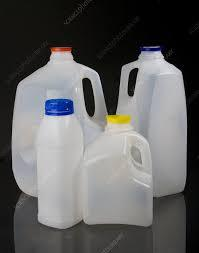HDPE: (11, 52, 108, 197), (116, 51, 188, 197), (81, 124, 153, 227), (37, 115, 83, 229), (44, 99, 74, 115), (106, 114, 131, 124), (140, 44, 160, 51), (51, 46, 72, 52)
